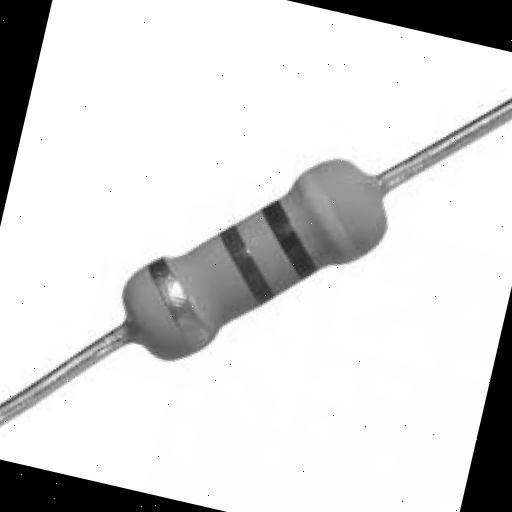RESISTOR: (44, 56, 434, 466)
